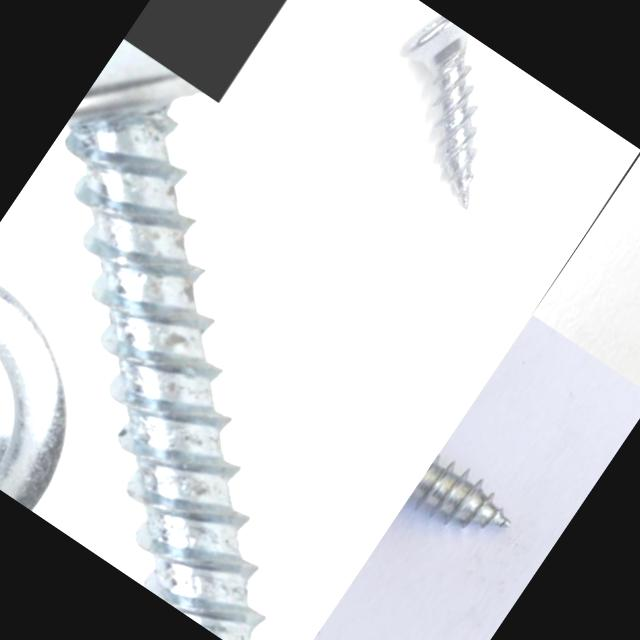Screw: (65, 39, 263, 640), (400, 15, 479, 208), (0, 287, 65, 510), (411, 455, 510, 526)
